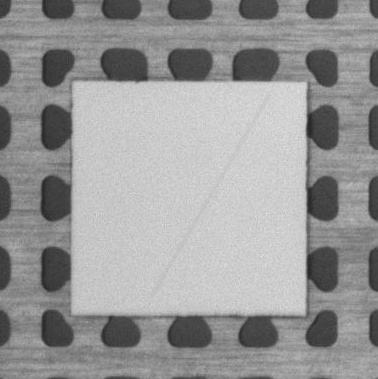DIE_CRACK: (152, 93, 269, 297)
